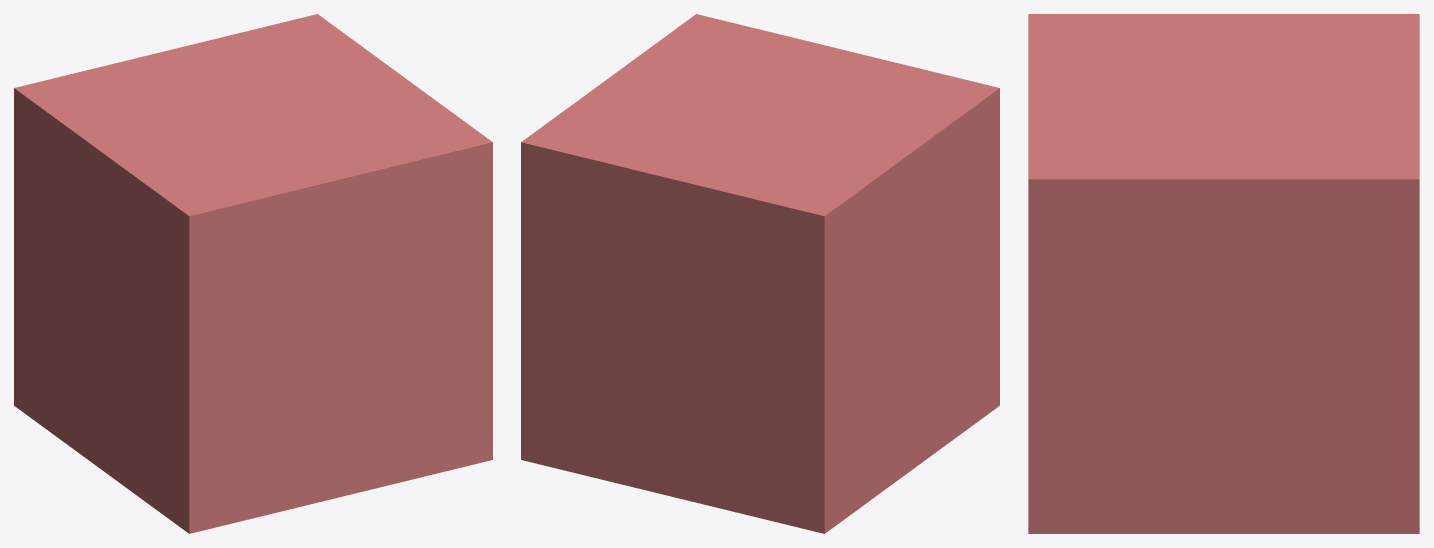
3 views of the same model, side by side, from view 1: azimuth 30°, elevation 25°; view 2: azimuth 150°, elevation 25°; view 3: azimuth 270°, elevation 25° (orthographic). The views are drawn at different scales.
Visible parts, largest first — view 1: 立方体; view 2: 立方体; view 3: 立方体.
Boxes of the visible parts, x1,y1,x2,y2 form: 立方体: (14,14,492,533); 立方体: (521,14,999,533); 立方体: (1028,14,1419,533).
Size of what is drawn, in the model's own units: 200 by 200 by 200.
